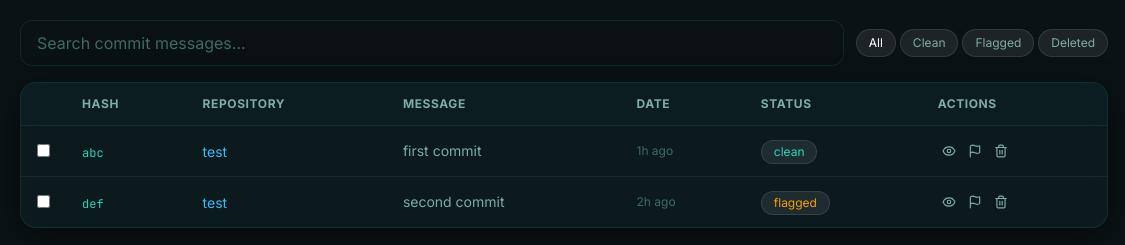
Scenario: renders and filters commits
Expected: the text "first commit" is shown, top-left (387, 126), bottom-right (620, 176)
Type "first" into the field with placeholder "Search commit messages..." at (432, 43), box top-left (20, 20), bottom-right (844, 66)
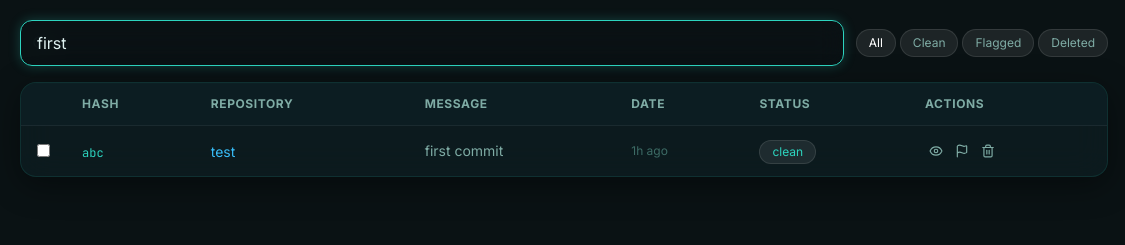
Expected: the text "first commit" is shown, top-left (409, 126), bottom-right (615, 176)
Now the text "second commit" is gone
